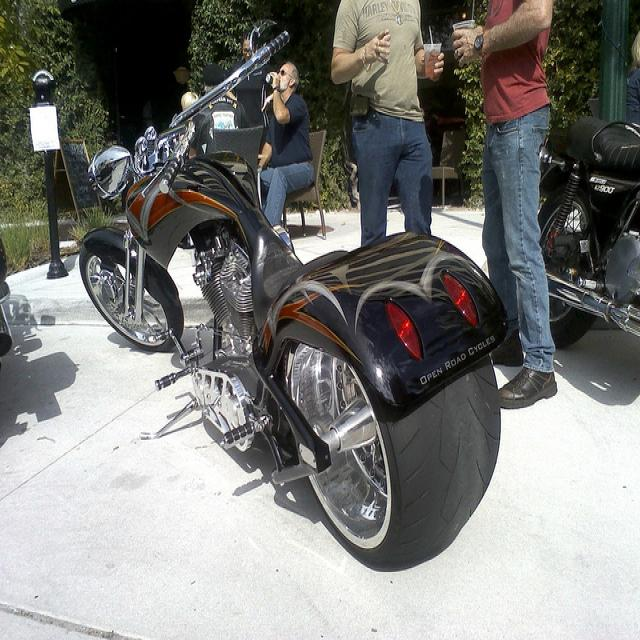motor: (78, 31, 508, 558), (537, 115, 637, 351), (0, 285, 13, 369)
